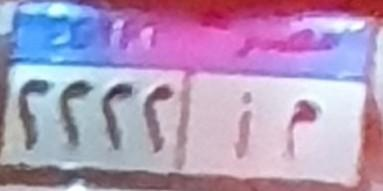2: (12, 72, 51, 151), (98, 80, 135, 155), (140, 79, 175, 157), (56, 76, 92, 150)
alif: (228, 81, 263, 162)
meem: (274, 90, 320, 163)
